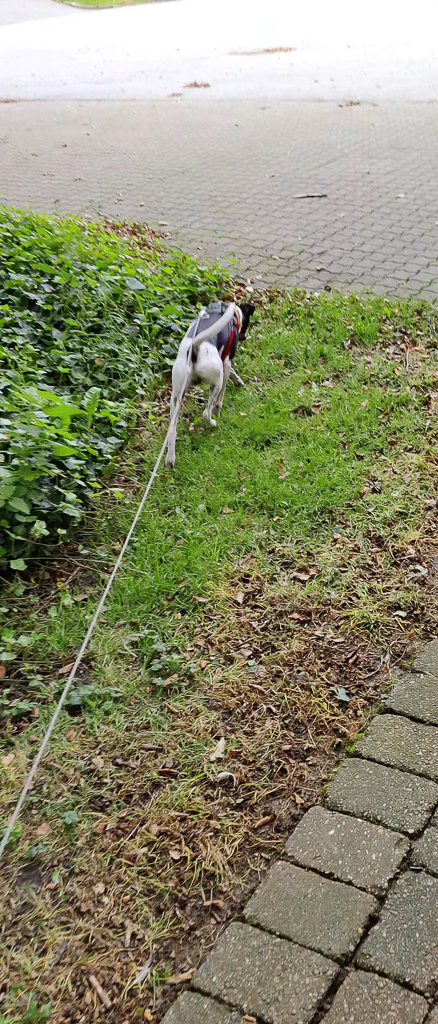Dog: (145, 282, 278, 487)
